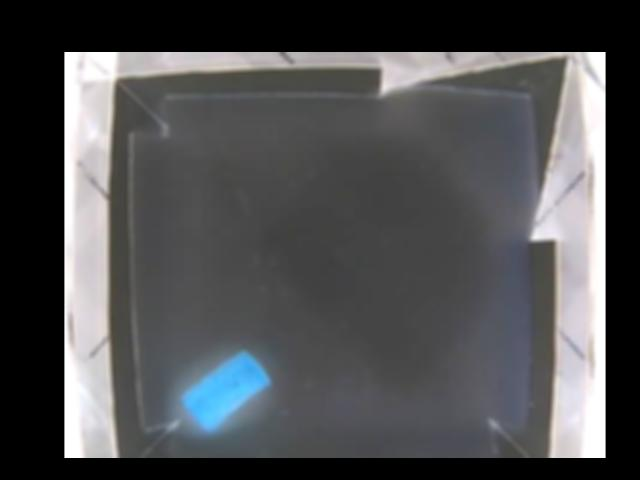Carrot: (181, 349, 268, 433)
